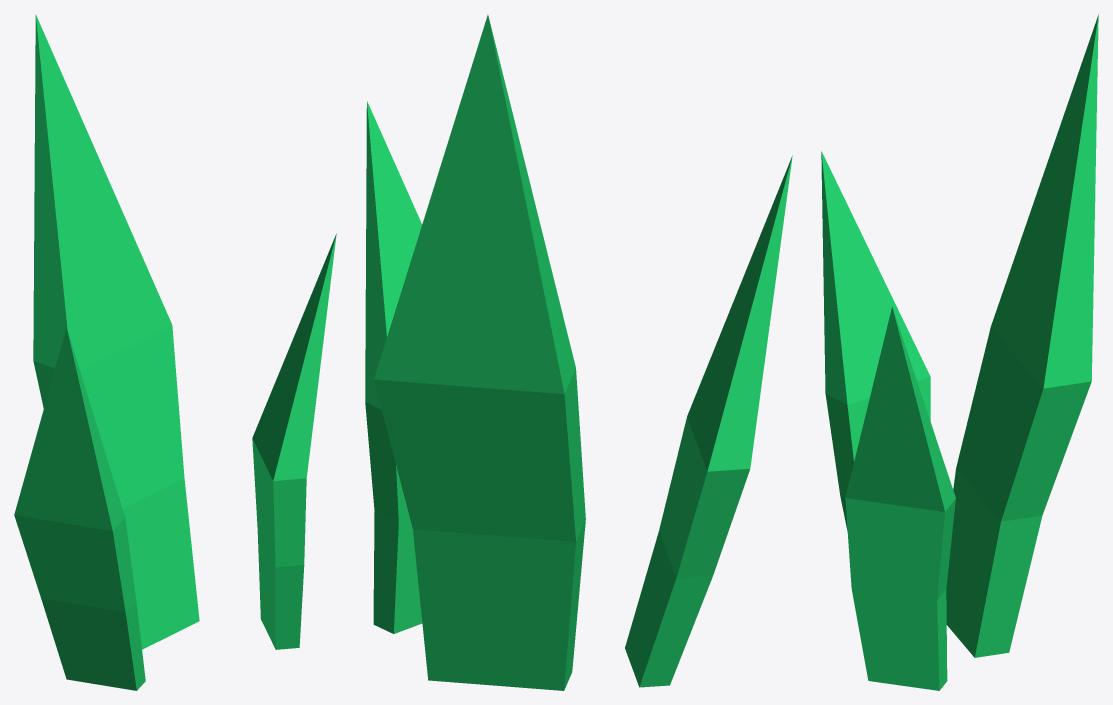
The model's file is Plant002_V2.fbx.
3 views of the same model, side by side, from view 1: azimuth 30°, elevation 25°; view 2: azimuth 150°, elevation 25°; view 3: azimuth 270°, elevation 25° (orthographic). The views are drawn at different scales.
Visible parts, largest first — view 1: Plant002.002; view 2: Plant002.002; view 3: Plant002.002.
Part boxes in pixels (<box>): Plant002.002: <box>14,14,336,690</box>; Plant002.002: <box>365,15,792,690</box>; Plant002.002: <box>821,14,1098,690</box>.
Size of the model in its own units: 0.2628 by 0.469 by 0.1986.
